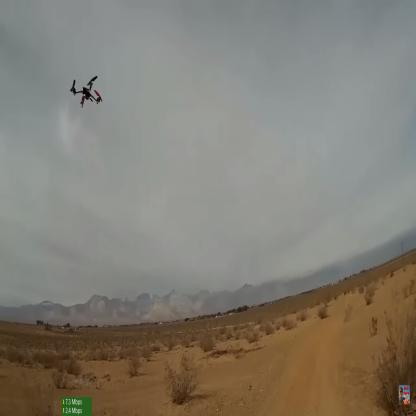drone: (69, 70, 108, 113)
